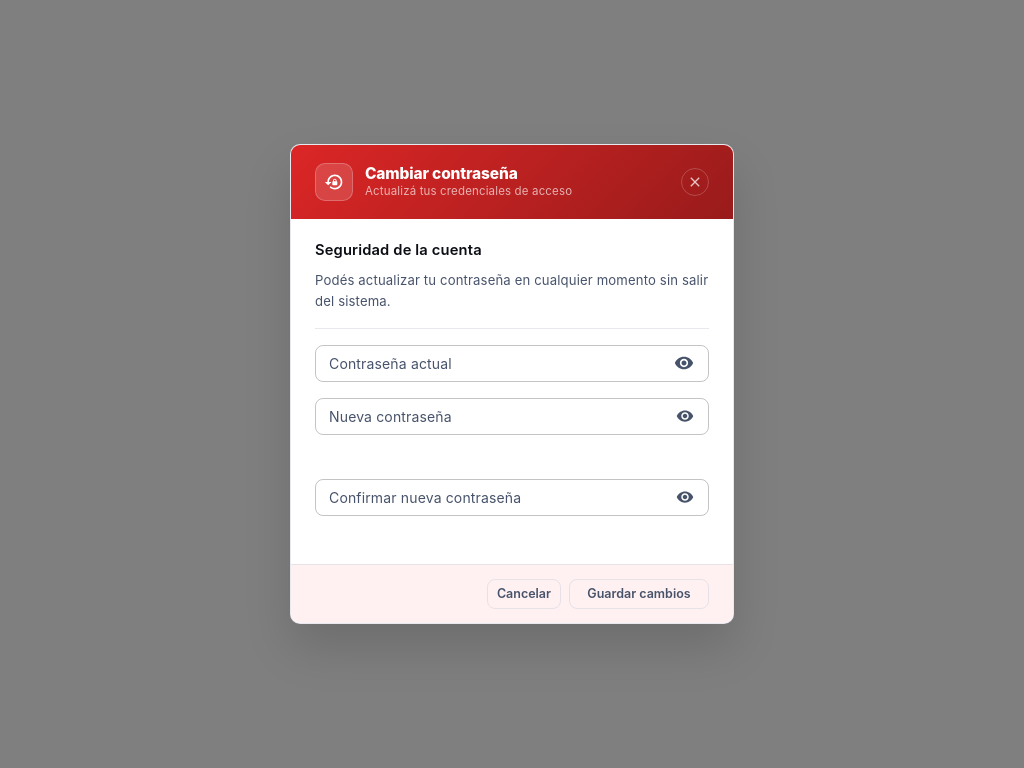
ChangePasswordModal › muestra el error del servidor
This screenshot has width=1024, height=768.
Type "Actual#123" into the password field labelled "Contraseña actual" at {"x": 488, "y": 363}, box left=315, top=344, right=662, bottom=382
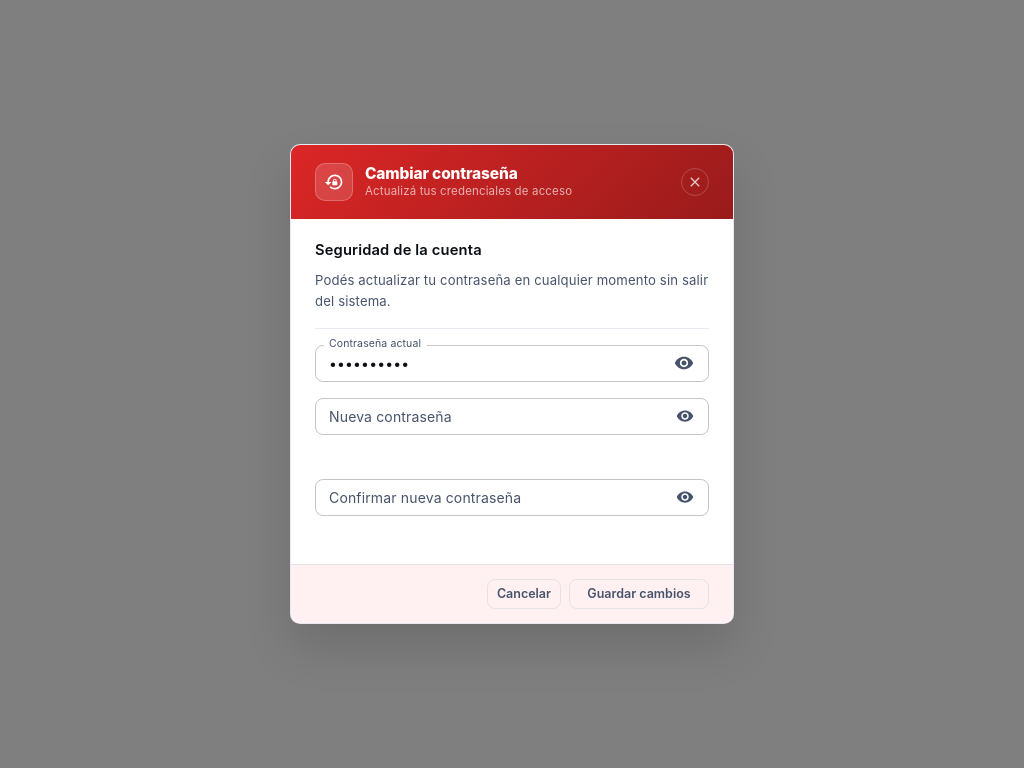
Type "Nueva#123" into the password field labelled "Nueva contraseña" at {"x": 490, "y": 416}, box left=315, top=398, right=664, bottom=435
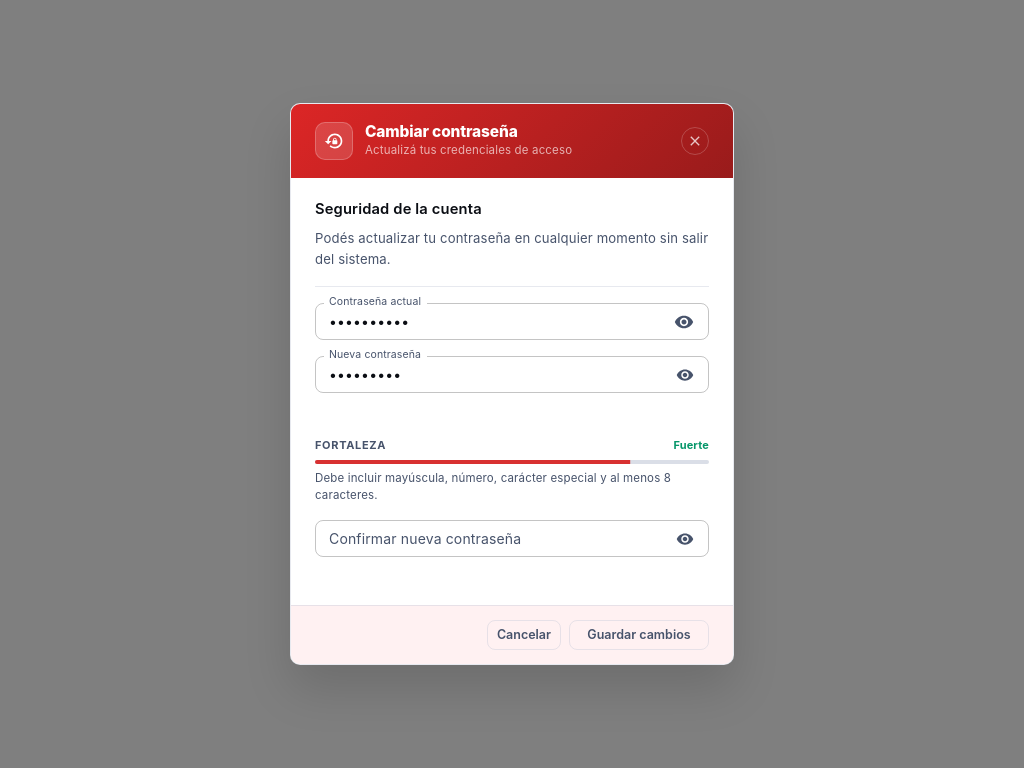
Type "Nueva#123" into the password field labelled "Confirmar nueva contraseña" at {"x": 490, "y": 539}, box left=315, top=520, right=664, bottom=557
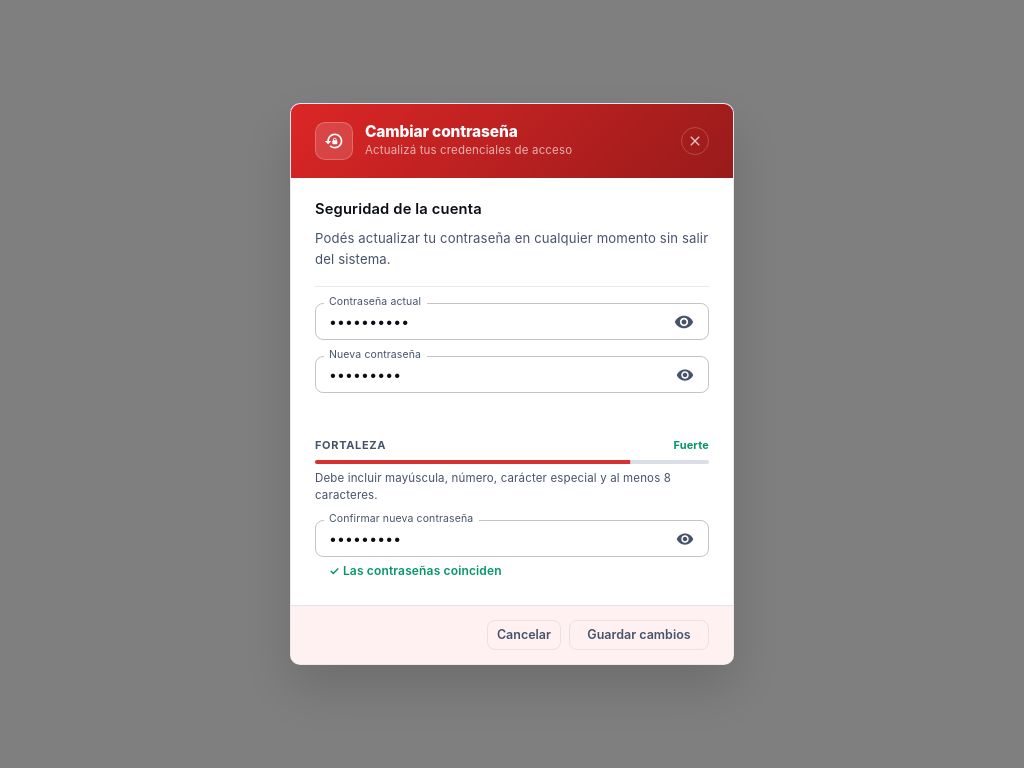
Click the button "Guardar cambios" at {"x": 639, "y": 635}, box left=569, top=620, right=709, bottom=650
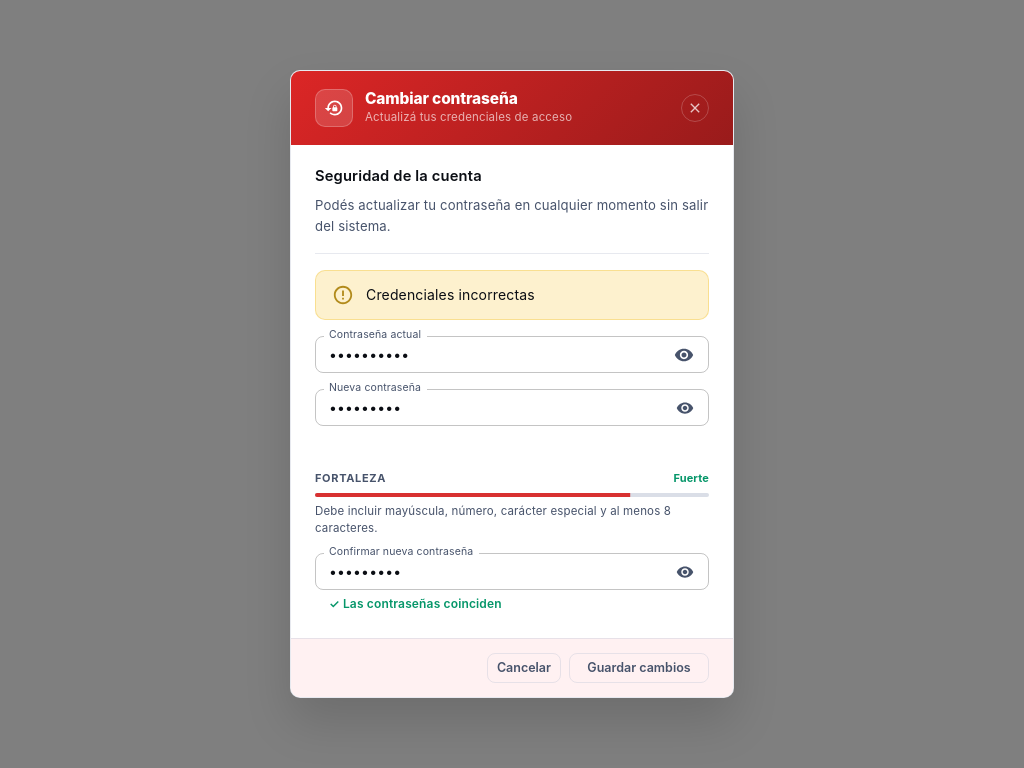
expect the text "Credenciales incorrectas" is shown: met, box left=366, top=286, right=535, bottom=303
